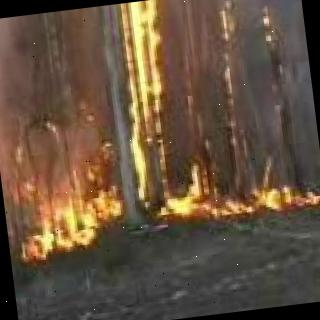fire: (110, 0, 191, 204), (1, 163, 119, 266), (173, 176, 320, 227), (208, 0, 248, 153)
